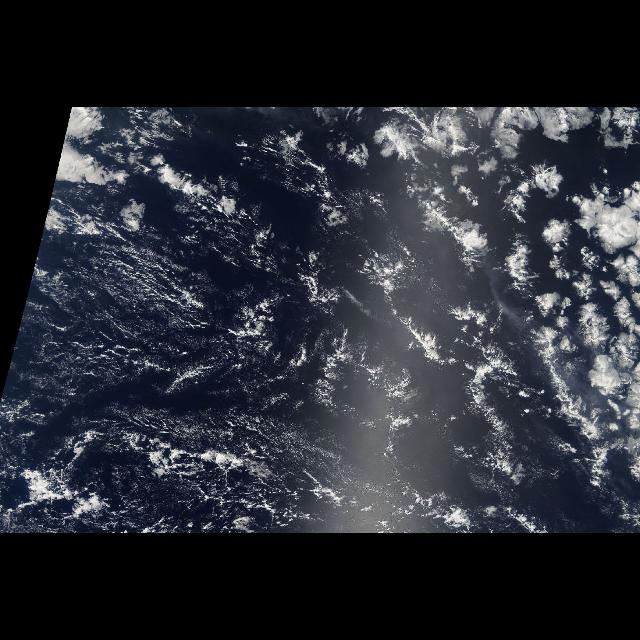Flower: (370, 108, 640, 496)
Gravel: (59, 254, 345, 406), (8, 408, 312, 534)
Sugar: (40, 252, 380, 480)
